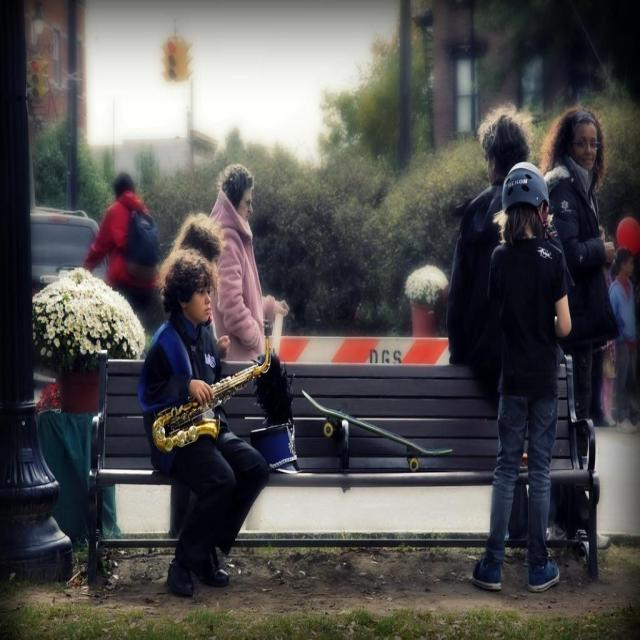saxophone: (150, 310, 274, 454)
